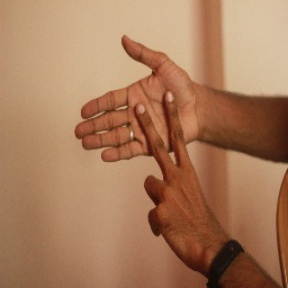N: (75, 28, 201, 214)
